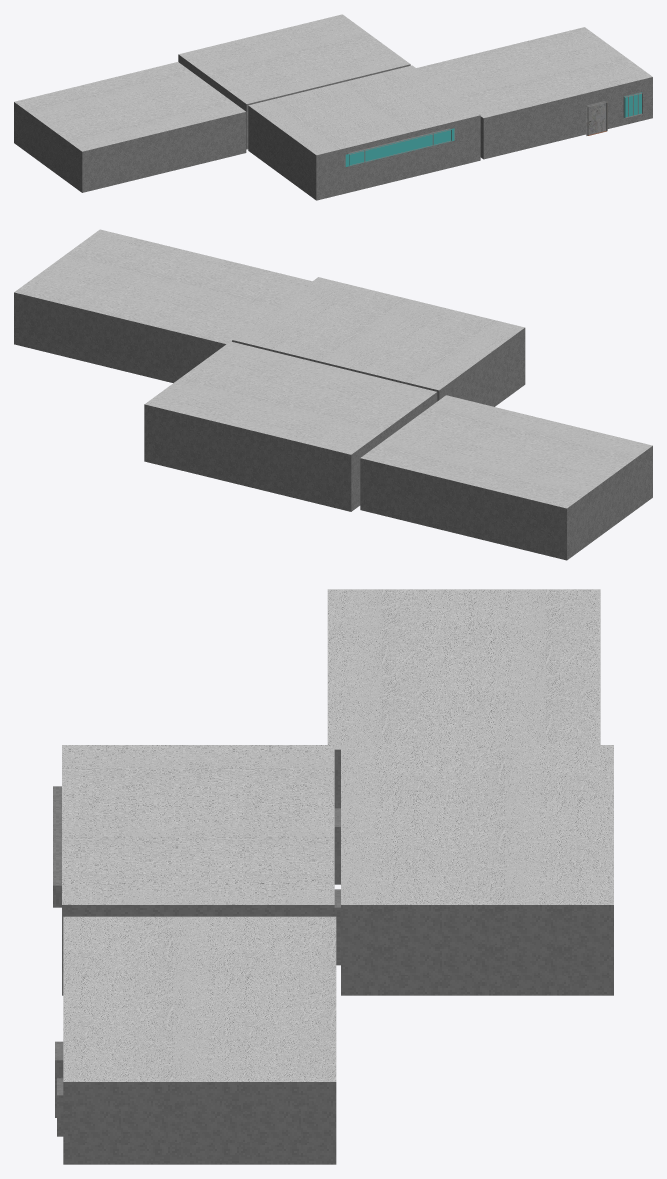
Rendered from inside.glb.
3 views of the same model, one above another, from view 1: azimuth 30°, elevation 25°; view 2: azimuth 150°, elevation 25°; view 3: azimuth 270°, elevation 25° (orthographic). The views are drawn at different scales.
Visible parts, largest first — view 1: Cube, Box001.001, Box001.002, Box001.003; view 2: Cube; view 3: Cube.
Boxes of the visible parts, left/top/right/bottom form: Cube: left=14, top=14, right=652, bottom=200; Box001.001: left=345, top=128, right=454, bottom=166; Box001.002: left=586, top=101, right=607, bottom=135; Box001.003: left=624, top=92, right=642, bottom=117; Cube: left=14, top=229, right=652, bottom=560; Cube: left=53, top=589, right=613, bottom=1164.
Size of what is drawn, in the model's own units: 25.62 by 2.23 by 12.33.
Materials: 4 (4 with a texture image).
